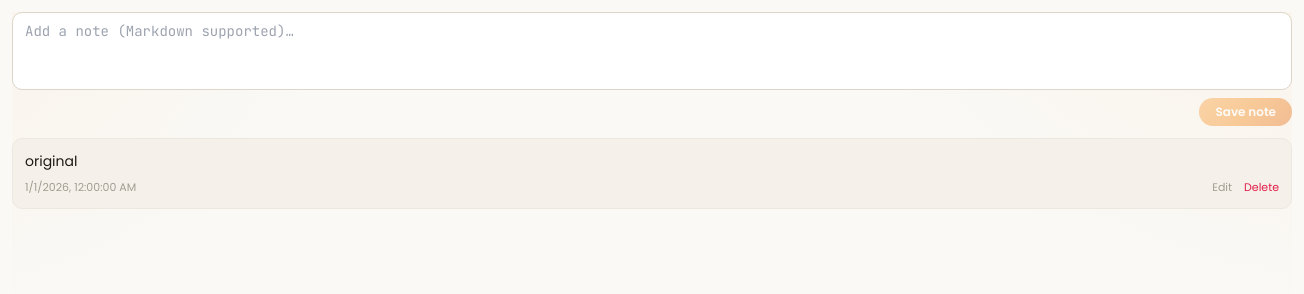
Scenario: NotesThread — editing › saves the edit and re-renders the updated body
Expected: the text "original" is shown, [25,151,77,171]
Click the button "Edit" at x=1222, y=187, box [1212,179,1232,196]
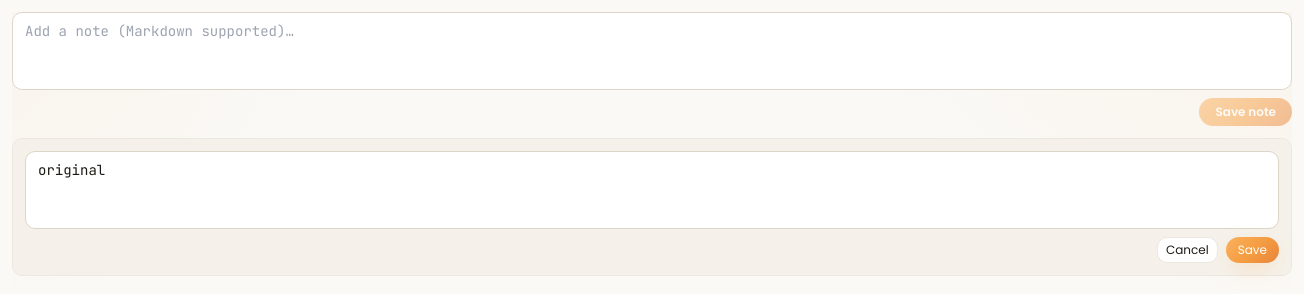
Replace the text in the 2nd text box with "revised" at x=652, y=190, box [25,151,1279,229]
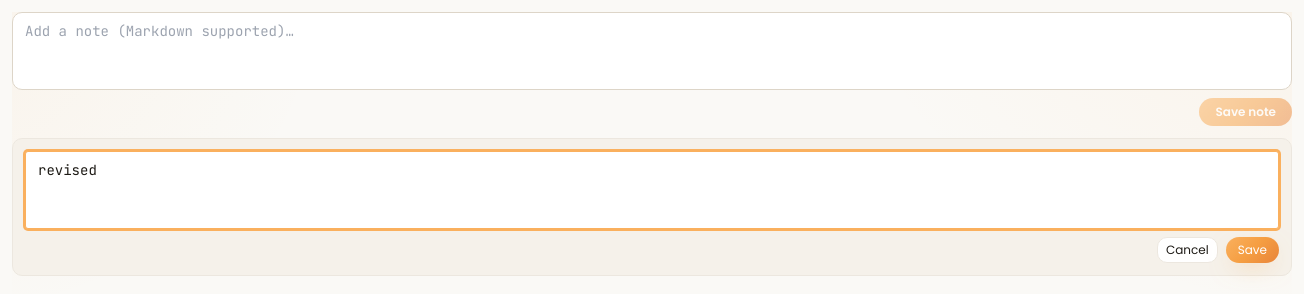
Click the button "Save" at x=1252, y=250, box [1226,237,1279,263]
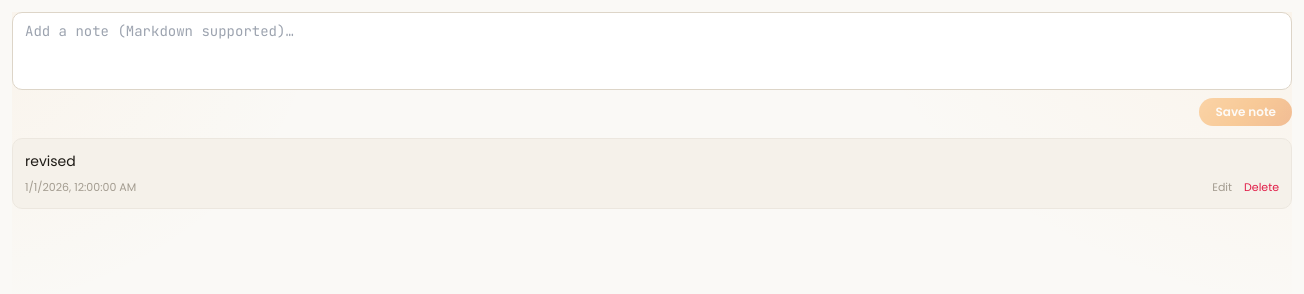
Result: the text "revised" is shown at [25,151,76,171]
